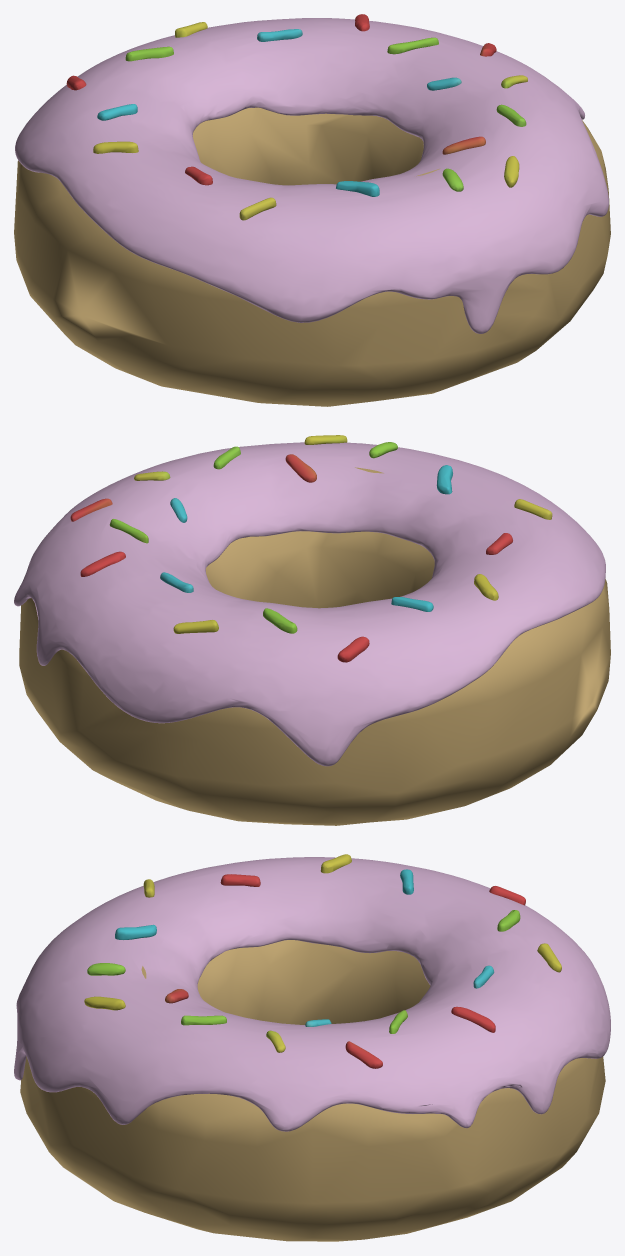
File: realdonut.glb
The picture shows the model from 3 angles, top to bottom: view 1: azimuth 30°, elevation 25°; view 2: azimuth 150°, elevation 25°; view 3: azimuth 270°, elevation 25°; orthographic projection.
Parts seen in each view (by area): view 1: Object_11, Object_10, Object_3, Object_9, Object_8, Object_2, Object_5, Object_7, Object_6, Object_4; view 2: Object_11, Object_10, Object_3, Object_2, Object_7, Object_5, Object_9, Object_4, Object_8, Object_6; view 3: Object_11, Object_10, Object_6, Object_3, Object_7, Object_2, Object_9, Object_4, Object_5, Object_8.
Part boxes in pixels (left/top/right/bottom): Object_11: left=15, top=18, right=608, bottom=333; Object_10: left=14, top=107, right=610, bottom=406; Object_3: left=185, top=136, right=485, bottom=220; Object_9: left=125, top=46, right=379, bottom=196; Object_8: left=97, top=37, right=438, bottom=120; Object_2: left=427, top=75, right=527, bottom=191; Object_5: left=175, top=22, right=302, bottom=41; Object_7: left=93, top=14, right=369, bottom=153; Object_6: left=480, top=43, right=519, bottom=187; Object_4: left=66, top=75, right=526, bottom=126; Object_11: left=14, top=442, right=605, bottom=766; Object_10: left=19, top=467, right=610, bottom=825; Object_3: left=285, top=454, right=552, bottom=554; Object_2: left=134, top=442, right=397, bottom=522; Object_7: left=80, top=551, right=498, bottom=600; Object_5: left=160, top=572, right=218, bottom=633; Object_9: left=263, top=465, right=452, bottom=633; Object_4: left=213, top=446, right=369, bottom=662; Object_8: left=109, top=519, right=433, bottom=611; Object_6: left=70, top=435, right=347, bottom=521; Object_11: left=14, top=857, right=610, bottom=1131; Object_10: left=20, top=940, right=605, bottom=1241; Object_6: left=84, top=996, right=382, bottom=1068; Object_3: left=143, top=874, right=260, bottom=1003; Object_7: left=320, top=854, right=495, bottom=1032; Object_2: left=87, top=963, right=331, bottom=1052; Object_9: left=115, top=910, right=520, bottom=939; Object_4: left=181, top=886, right=525, bottom=1025; Object_5: left=473, top=943, right=561, bottom=988; Object_8: left=389, top=869, right=413, bottom=1033.
Size of the model in its own units: 0.0989 by 0.0377 by 0.1.
